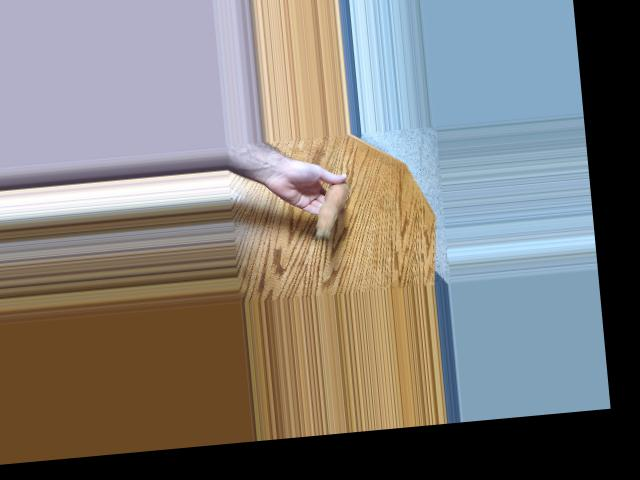sweet_potato: (308, 175, 353, 239)
